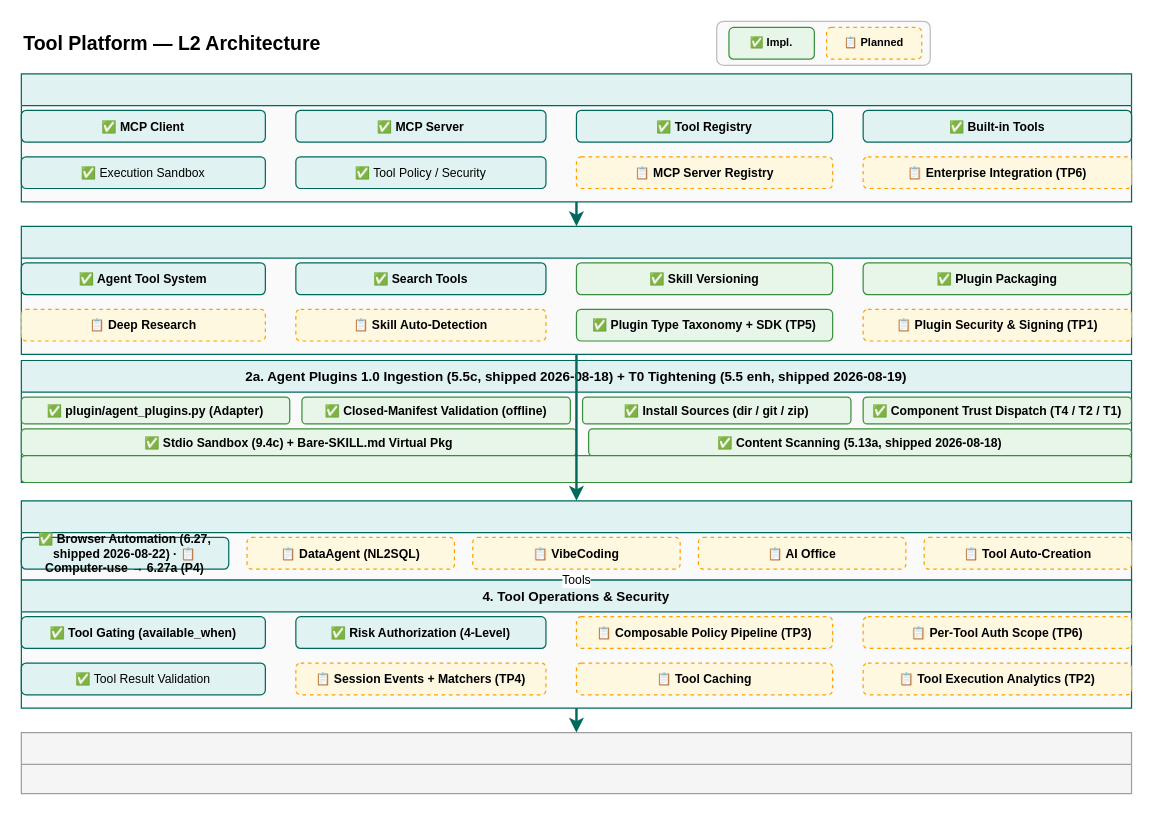
Image size: 1153x815. Some labels were removed from this diagram. Each missing label, with the box of its shape:
1. MCP & Tool System: (20, 73, 1132, 202)
2. Skill & Plugin Ecosystem: (20, 225, 1132, 354)
3. AI-Native Tools: (20, 500, 1132, 580)
✅ T0 Trust Gate (5.5 enh) — PythonEntryPolicy + install rollback + SaaS pip skip: (20, 454, 1132, 483)
⤵ To Agent Engine — Tool Execution via EnginePort: (20, 731, 1132, 794)
